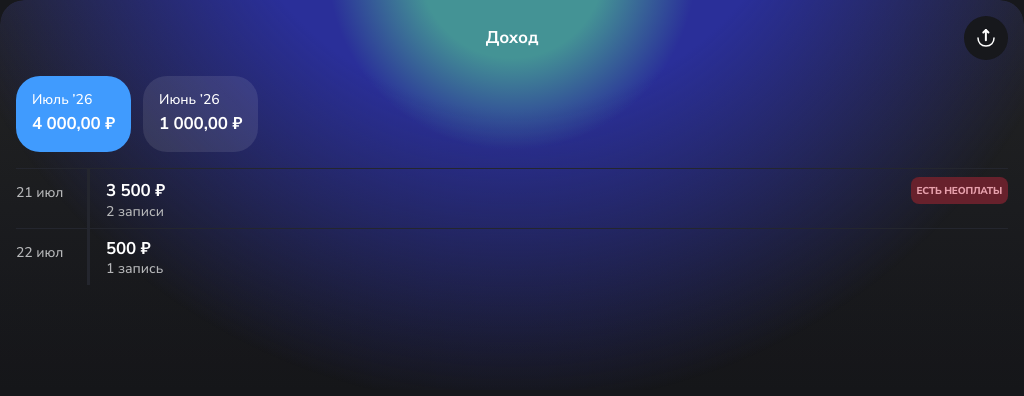
Scenario: master payments pages › переключает month summary и показывает соответствующие дни
Click the text "Июнь ’26": (189, 100) [159,92,220,108]
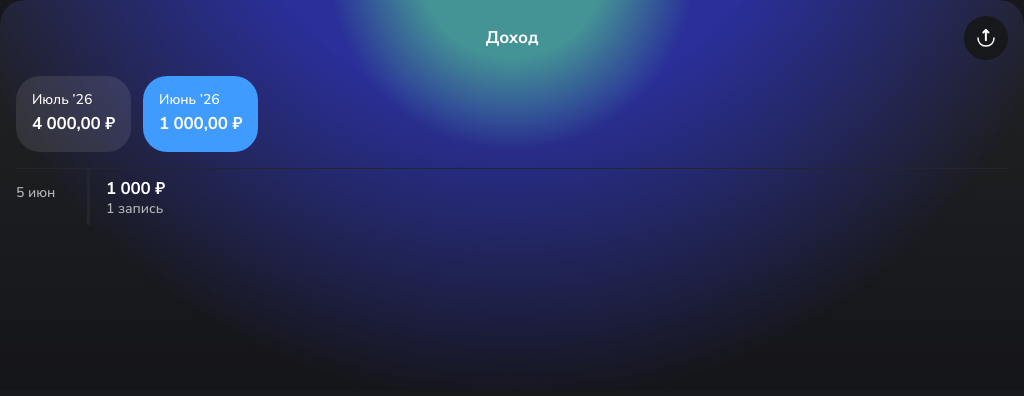
Check: the text "5 июн" is shown, box [16,183,55,202]
Check: the text "1 000 ₽" is shown, box [106,177,165,201]
Check: the text "22 июл" is gone
